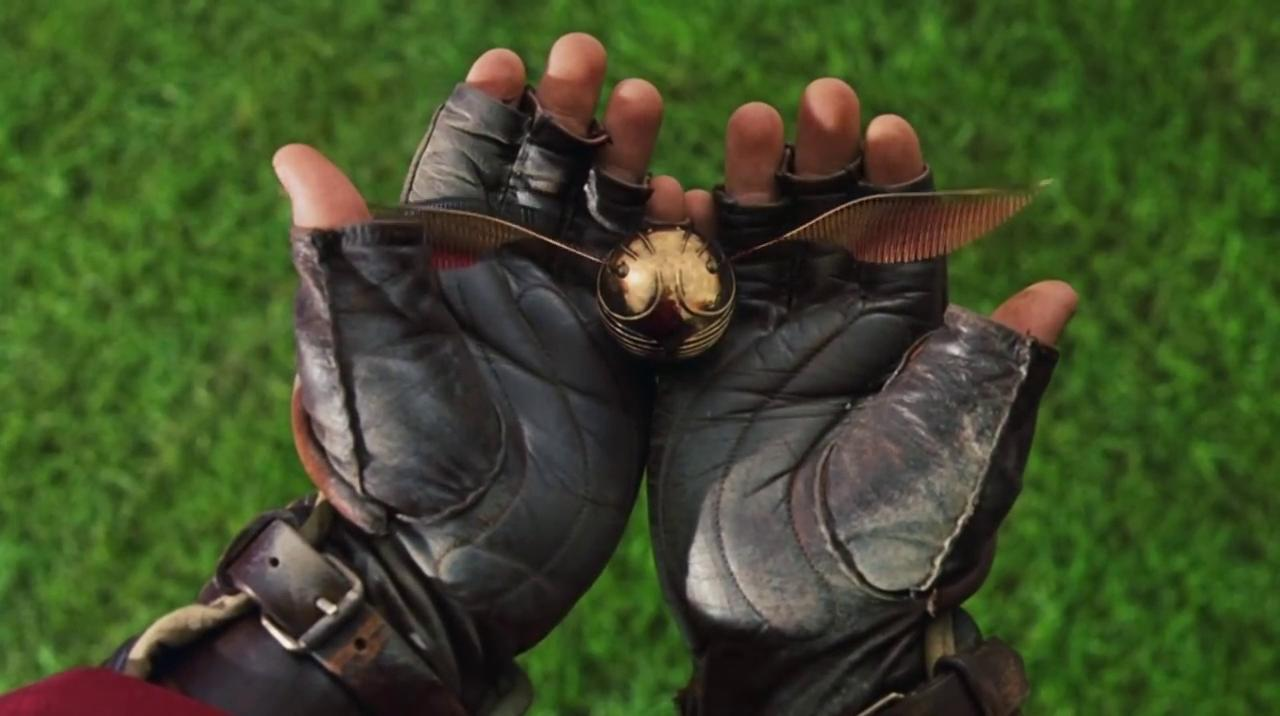snitch: (597, 225, 732, 363)
